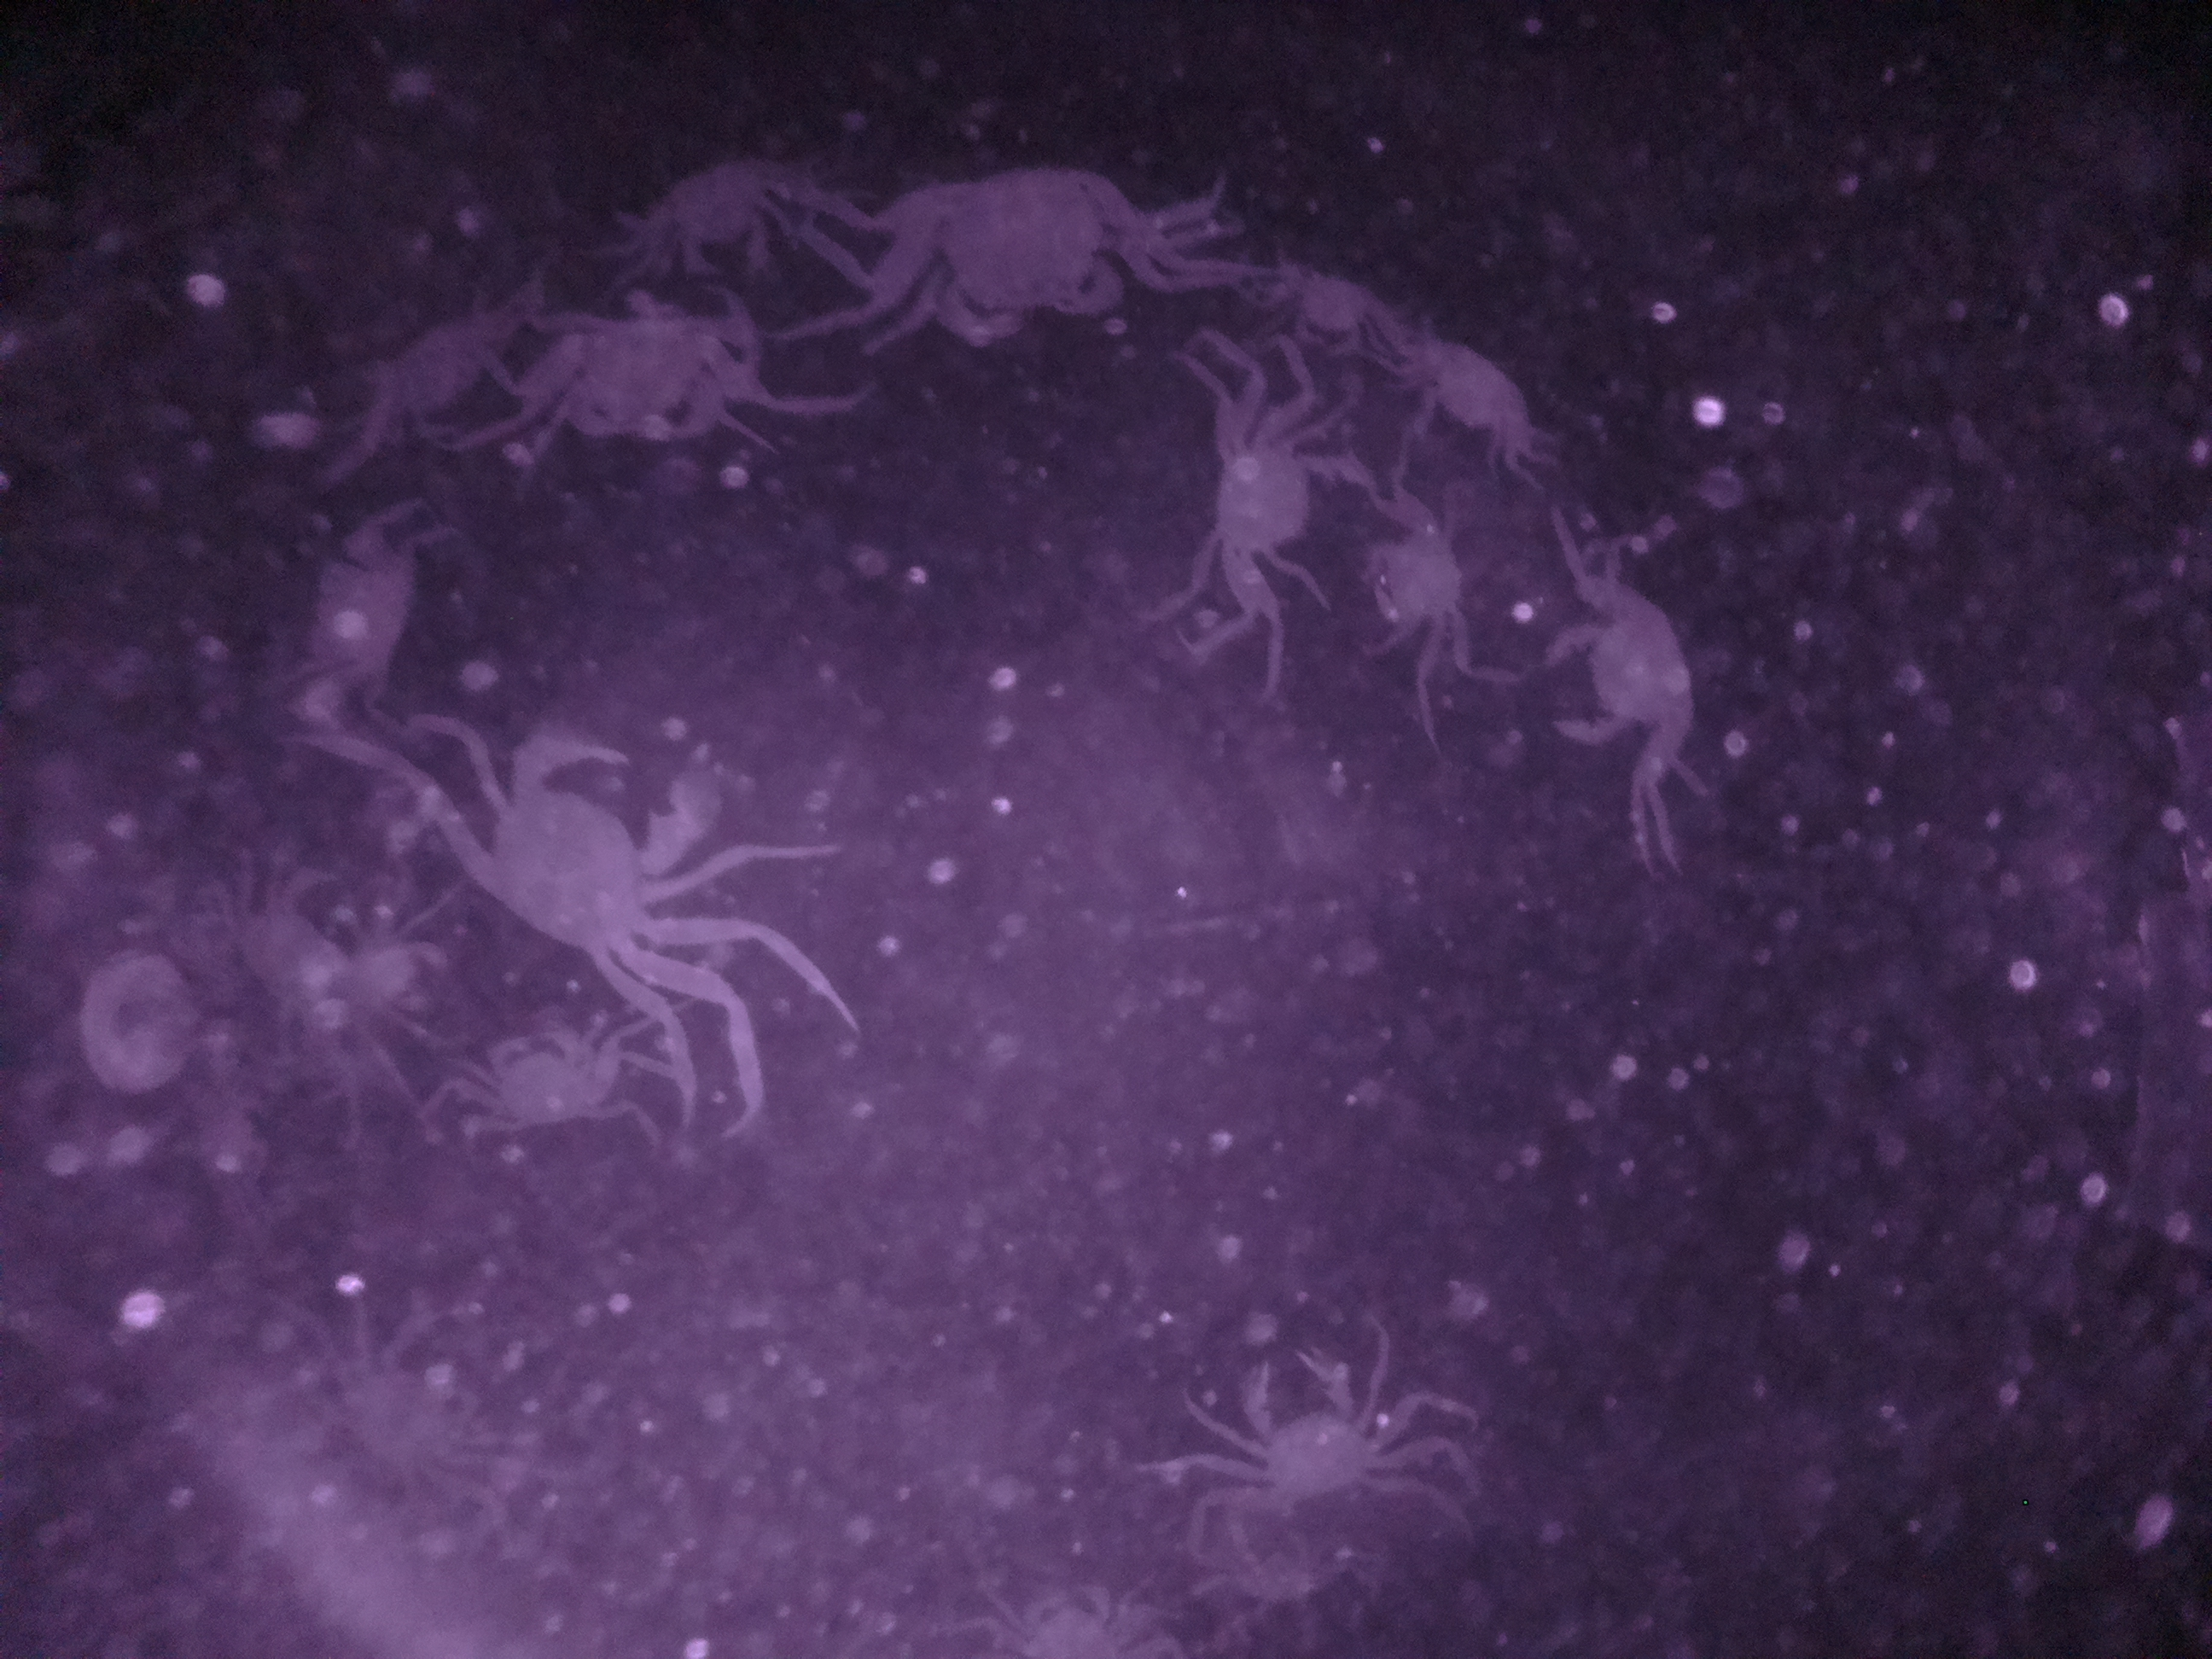Crab: (876, 143, 1176, 361), (1198, 1337, 1413, 1544), (1519, 584, 1728, 791), (1193, 403, 1366, 640), (462, 1009, 648, 1169), (1343, 490, 1484, 659)
